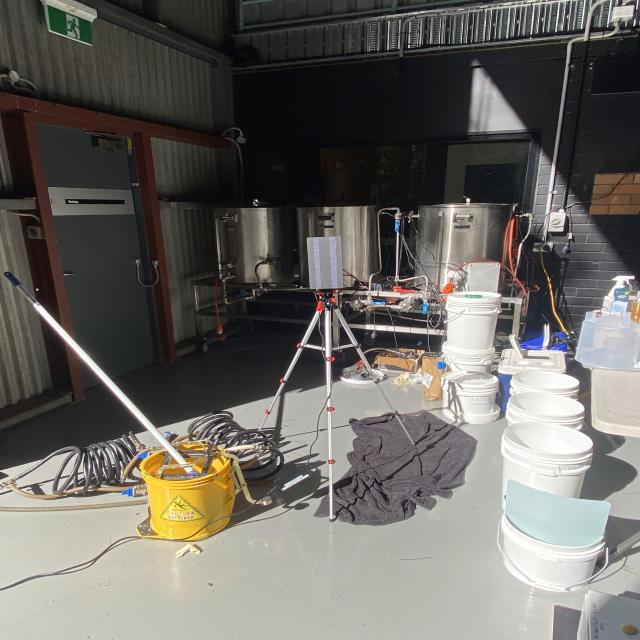matrix: (300, 235, 353, 292)
